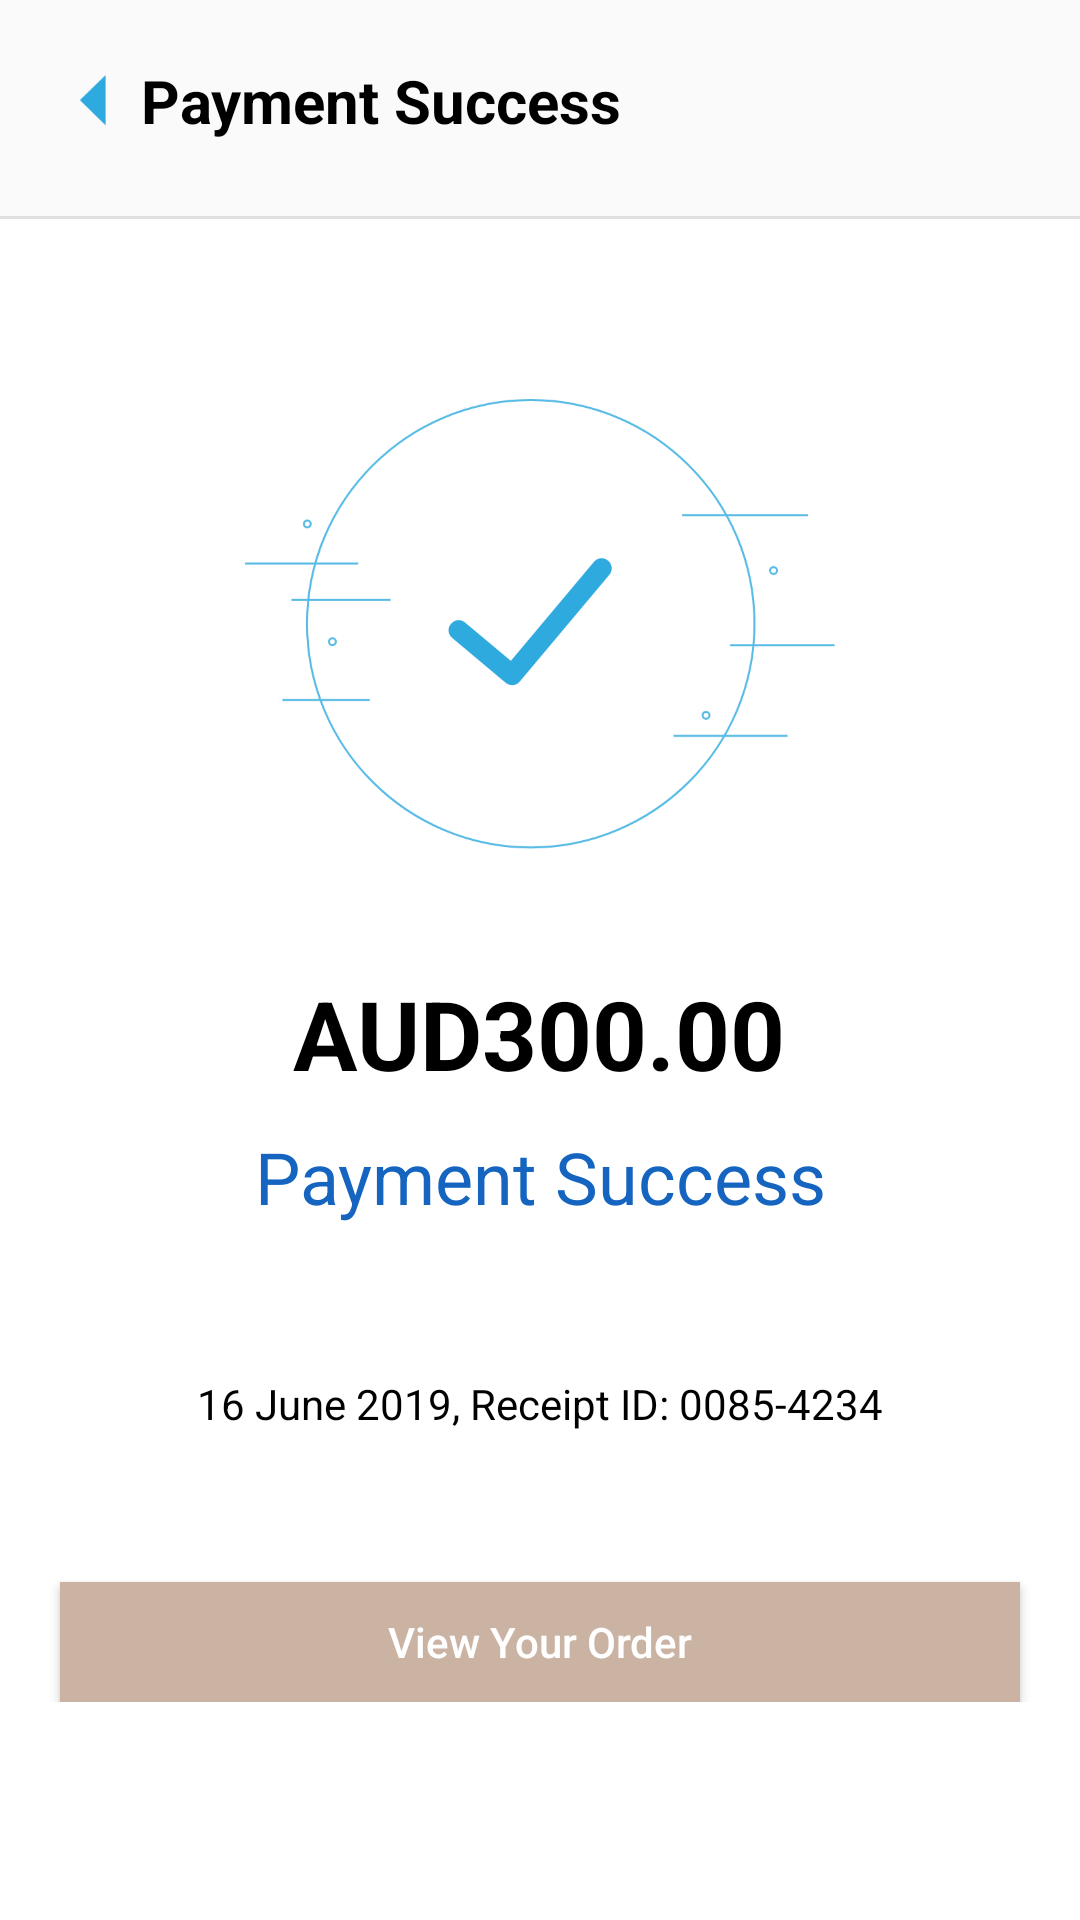

Screen size 1080 × 1920. Icon name, then its box in pixels as (x1, y1, x2, y2):
option back: (80, 75, 106, 125)
